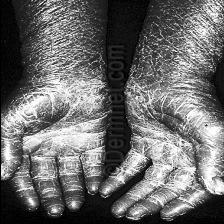Non-Cancerous Skin Condition: (140, 0, 224, 205), (18, 1, 90, 192)
